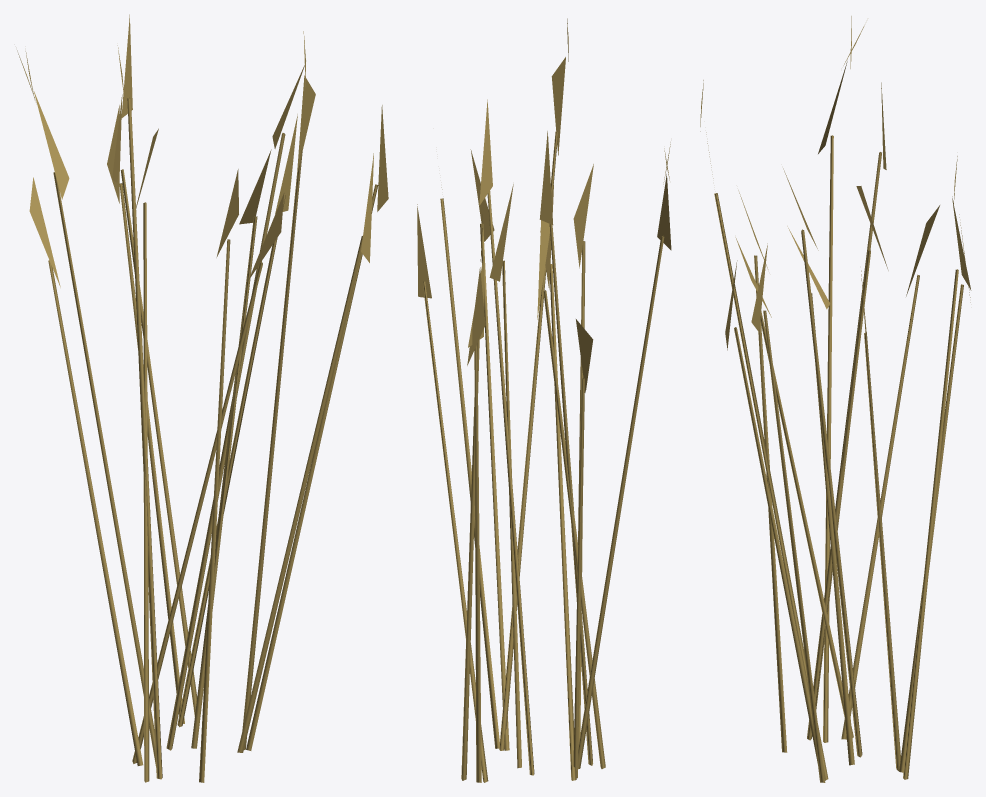
File: trigo_3.glb
The picture shows the model from 3 angles, left to right: view 1: azimuth 30°, elevation 25°; view 2: azimuth 150°, elevation 25°; view 3: azimuth 270°, elevation 25°; orthographic projection. The views are drawn at different scales.
Visible parts, largest first — view 1: trigo_3.001; view 2: trigo_3.001; view 3: trigo_3.001.
Part boxes in pixels (x1,y1,x2,y2): trigo_3.001: [17, 14, 388, 782]; trigo_3.001: [417, 18, 671, 782]; trigo_3.001: [700, 16, 971, 782].
Bounding box in the file's own units: 0.4707 × 1.11 × 0.3908.
